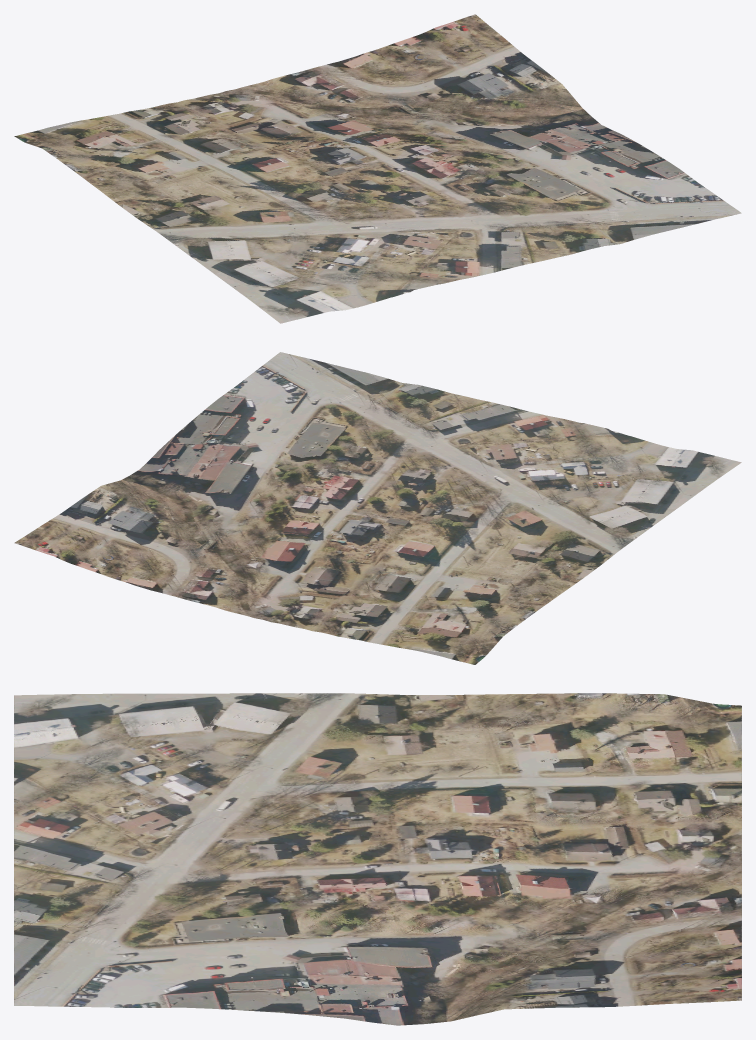
Rendered from CM_Terrain_24490868_6820818.fbx.
The picture shows the model from 3 angles, top to bottom: view 1: azimuth 30°, elevation 25°; view 2: azimuth 150°, elevation 25°; view 3: azimuth 270°, elevation 25°; orthographic projection. The views are drawn at different scales.
Parts seen in each view (by area): view 1: CM_Terrain_24490868_6820818_LOD0; view 2: CM_Terrain_24490868_6820818_LOD0; view 3: CM_Terrain_24490868_6820818_LOD0.
Part boxes in pixels (x1,y1,x2,y2): CM_Terrain_24490868_6820818_LOD0: (14,14,741,323); CM_Terrain_24490868_6820818_LOD0: (14,352,741,664); CM_Terrain_24490868_6820818_LOD0: (14,693,741,1025).
Size of what is drawn, in the model's own units: 205 by 7.8 by 205.
